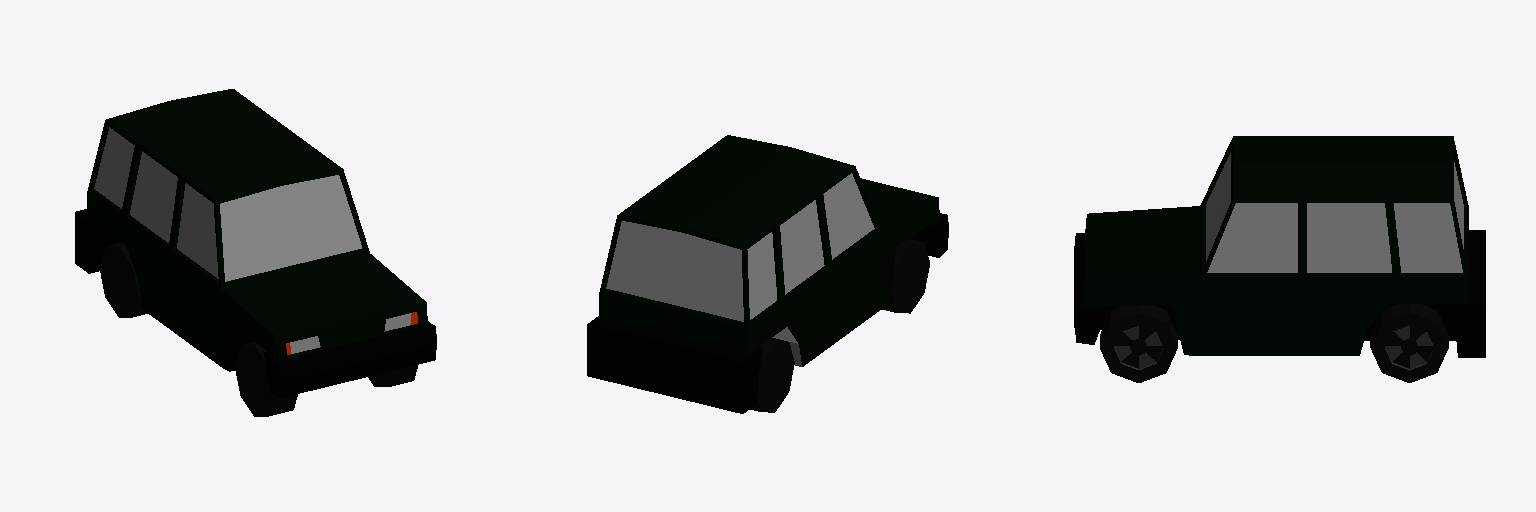
Rendered from vitara.obj.
3 renders of one model, left to right at view 1: azimuth 30°, elevation 25°; view 2: azimuth 150°, elevation 25°; view 3: azimuth 270°, elevation 25°, orthographic.
Visible parts, largest first — view 1: body_Cube, tires_Cylinder; view 2: body_Cube, tires_Cylinder; view 3: body_Cube, tires_Cylinder.
Boxes of the visible parts, x1,y1,x2,y2 form: body_Cube: [75, 89, 436, 397]; tires_Cylinder: [99, 243, 417, 416]; body_Cube: [587, 135, 948, 413]; tires_Cylinder: [750, 239, 929, 412]; body_Cube: [1074, 136, 1485, 357]; tires_Cylinder: [1100, 304, 1448, 382].
Size of the model in its own units: 2.1 by 2.35 by 4.8.